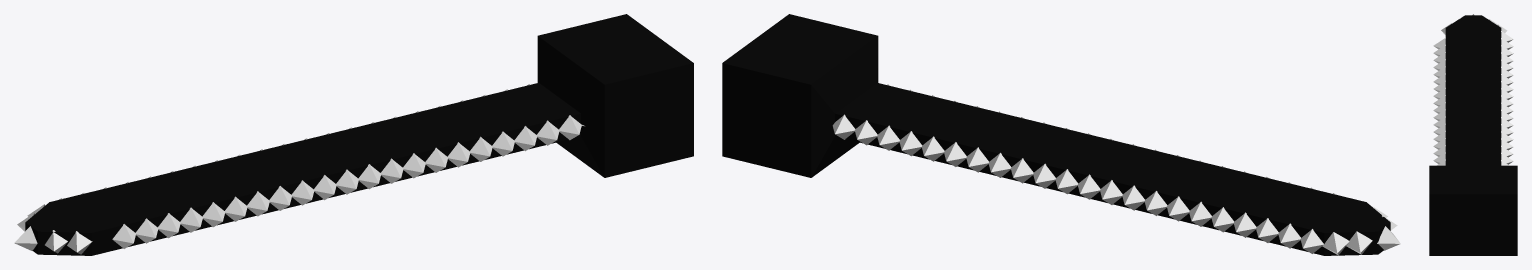
File: Somos+Chainsaw4.fbx
3 views of the same model, side by side, from view 1: azimuth 30°, elevation 25°; view 2: azimuth 150°, elevation 25°; view 3: azimuth 270°, elevation 25° (orthographic). The views are drawn at different scales.
Visible parts, largest first — view 1: ChainsawBody.005, ChainsawBody.001, Cone.001, Cone.004, Cone.003; view 2: ChainsawBody.005, ChainsawBody.001, Cone.002, Cone.003; view 3: ChainsawBody.005, ChainsawBody.001, Cone.002, Cone.001.
Boxes of the visible parts, <box> form: ChainsawBody.005: <box>31,14,693,228</box>; ChainsawBody.001: <box>25,83,580,255</box>; Cone.001: <box>112,115,584,248</box>; Cone.004: <box>45,230,92,254</box>; Cone.003: <box>14,204,45,250</box>; ChainsawBody.005: <box>722,14,1384,228</box>; ChainsawBody.001: <box>835,82,1390,255</box>; Cone.002: <box>832,114,1323,253</box>; Cone.003: <box>1322,226,1400,255</box>; ChainsawBody.005: <box>1429,15,1517,255</box>; ChainsawBody.001: <box>1445,15,1501,165</box>; Cone.002: <box>1501,31,1513,165</box>; Cone.001: <box>1433,37,1445,165</box>.
Bounding box in the file's own units: 1159 × 160 × 208.
